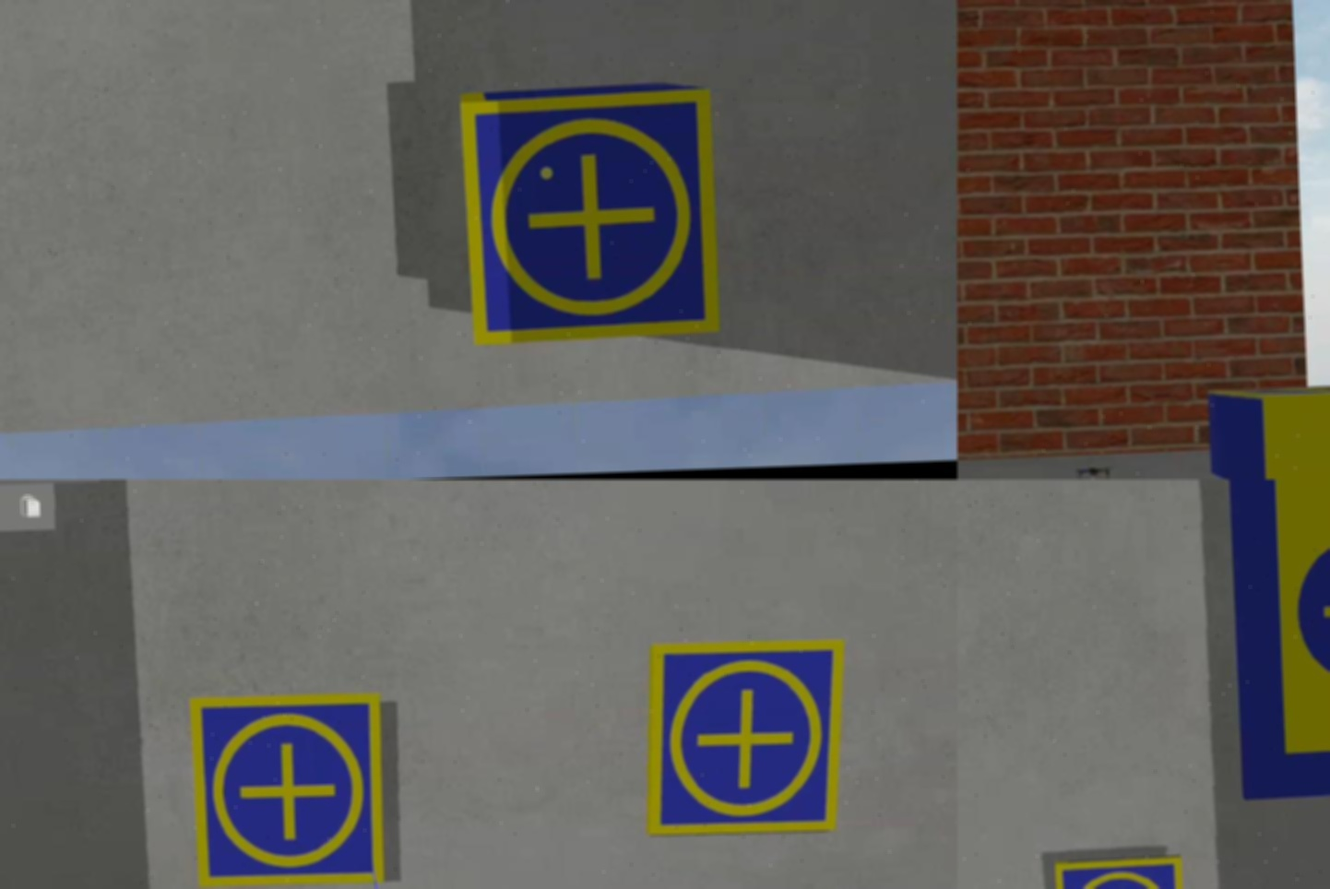large_base: (1229, 480, 1330, 802)
small_base: (460, 92, 717, 350), (643, 639, 854, 842), (187, 691, 390, 889), (1052, 854, 1191, 889)
